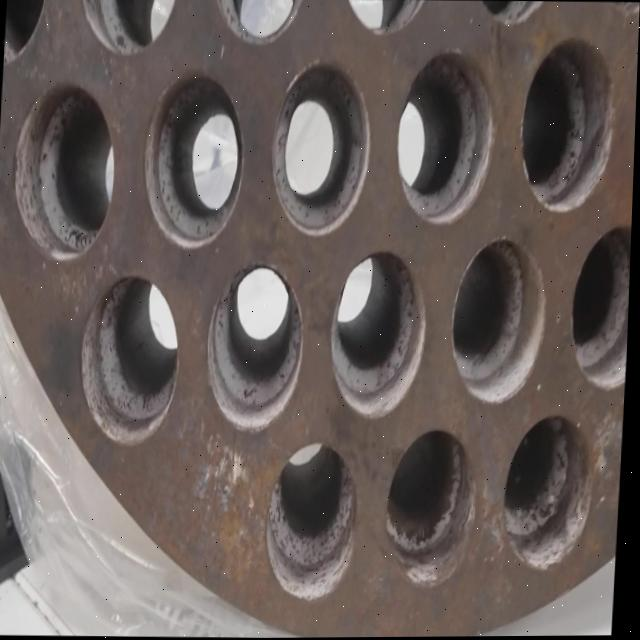Hole: (9, 80, 119, 260), (140, 69, 247, 249), (267, 58, 374, 237), (393, 47, 498, 226), (79, 272, 185, 445), (518, 34, 618, 214), (327, 246, 431, 419), (204, 262, 308, 432), (451, 235, 551, 405), (265, 439, 363, 603), (385, 426, 482, 588), (502, 411, 597, 572), (569, 221, 633, 390), (71, 0, 179, 54), (206, 0, 307, 45), (336, 0, 434, 36)
